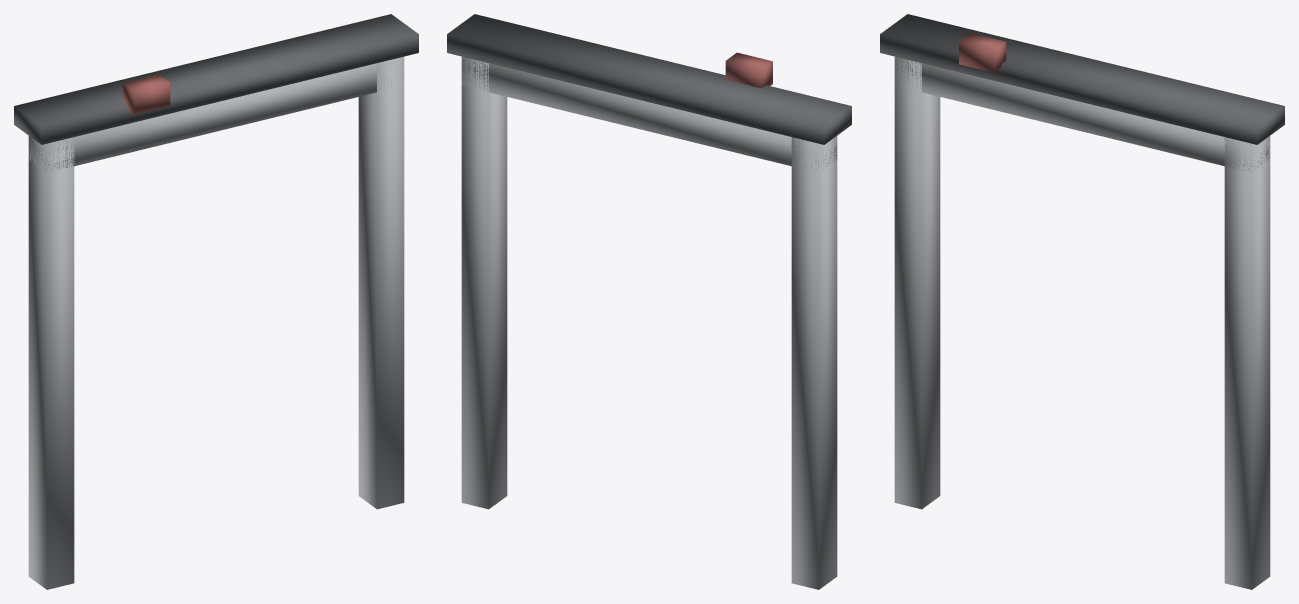
File: doorway_fire_rated_w152_h200_d16.glb
3 views of the same model, side by side, from view 1: azimuth 30°, elevation 25°; view 2: azimuth 150°, elevation 25°; view 3: azimuth 330°, elevation 25° (orthographic).
Parts seen in each view (by area): view 1: world; view 2: world; view 3: world.
Part boxes in pixels (box(x1,y1,x2,y2)): world: box(14, 14, 418, 589); world: box(447, 14, 851, 589); world: box(880, 14, 1284, 589).
Size of the model in its own units: 1.89 by 2.34 by 0.3.
